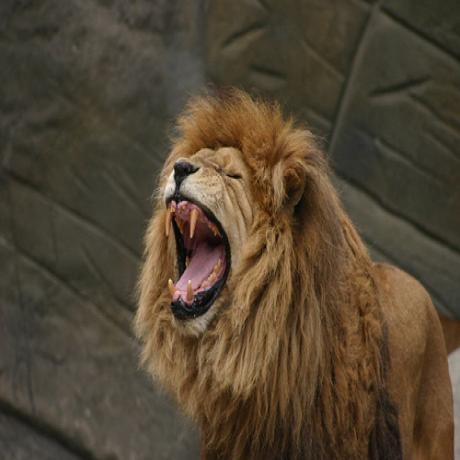Lion: (137, 90, 453, 460)
